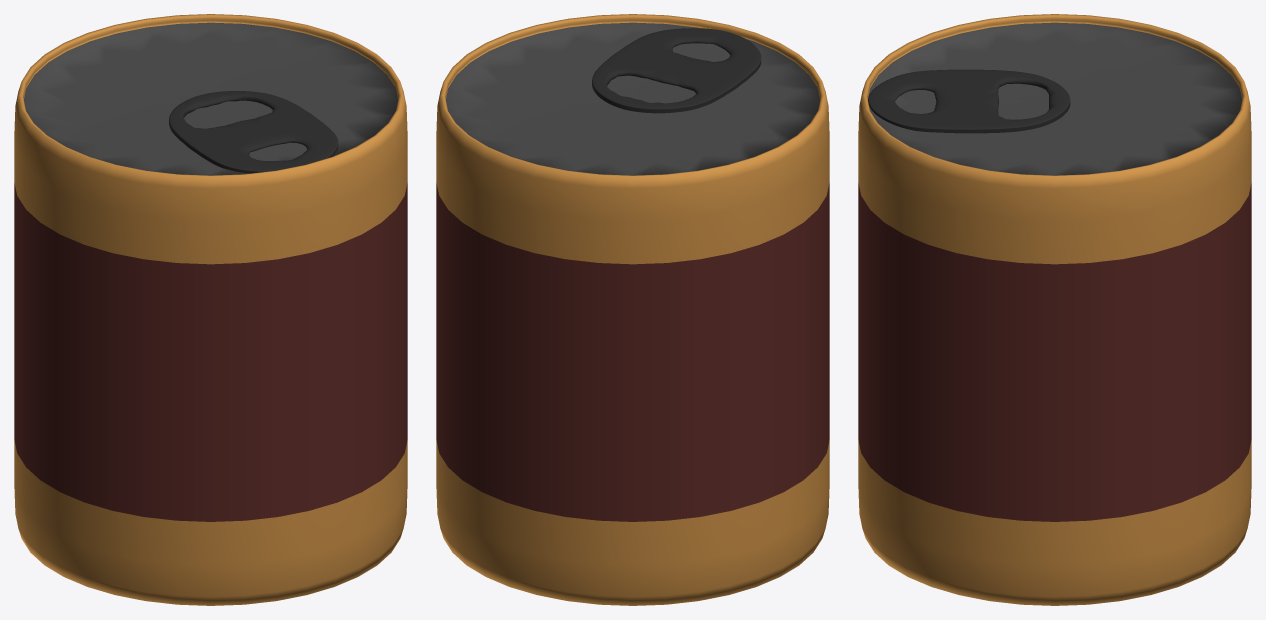
File: Can.fbx
3 views of the same model, side by side, from view 1: azimuth 30°, elevation 25°; view 2: azimuth 150°, elevation 25°; view 3: azimuth 270°, elevation 25° (orthographic).
Visible parts, largest first — view 1: Cylinder001, Cylinder002; view 2: Cylinder001, Cylinder002; view 3: Cylinder001, Cylinder002.
Boxes of the visible parts, left/top/right/bottom form: Cylinder001: left=14, top=14, right=407, bottom=605; Cylinder002: left=169, top=91, right=338, bottom=173; Cylinder001: left=436, top=14, right=829, bottom=605; Cylinder002: left=592, top=28, right=761, bottom=113; Cylinder001: left=858, top=14, right=1251, bottom=605; Cylinder002: left=868, top=69, right=1070, bottom=133.
Size of the model in its own units: 32.54 by 39.18 by 32.54.
